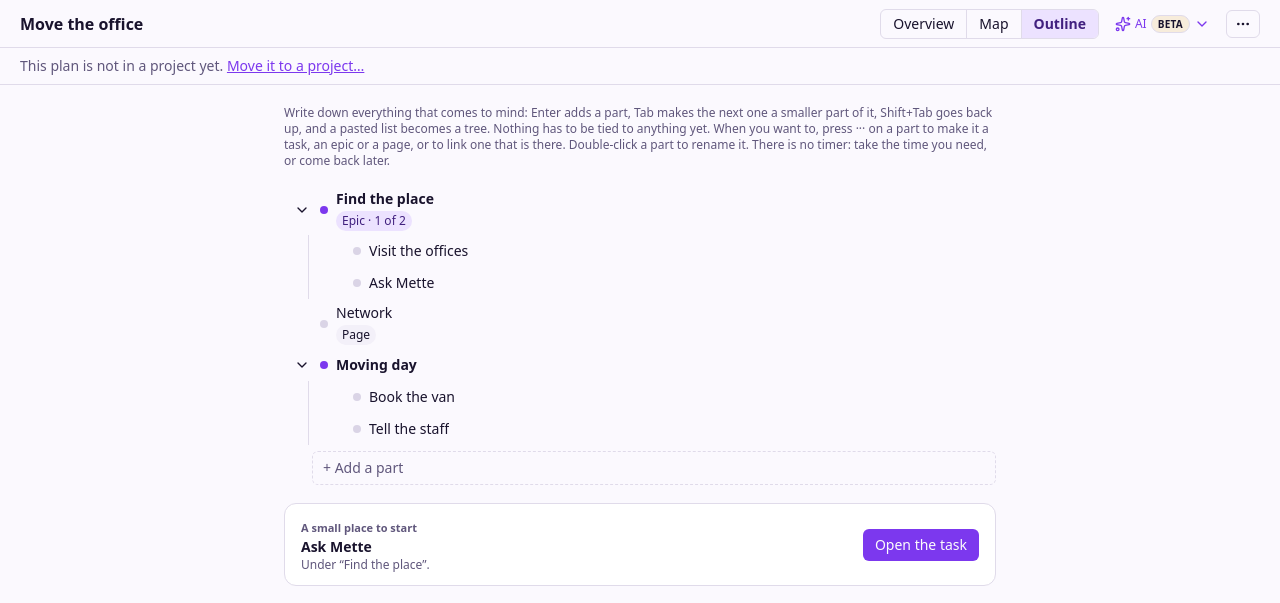
Test case: PlansView › folds a branch
The width and height of the screenshot is (1280, 603).
Expected: the button "Book the van" is shown, [369,387,455,407]
Step 1. Click the button named "Fold Moving day" → click(302, 365), box [292,355,312,375]
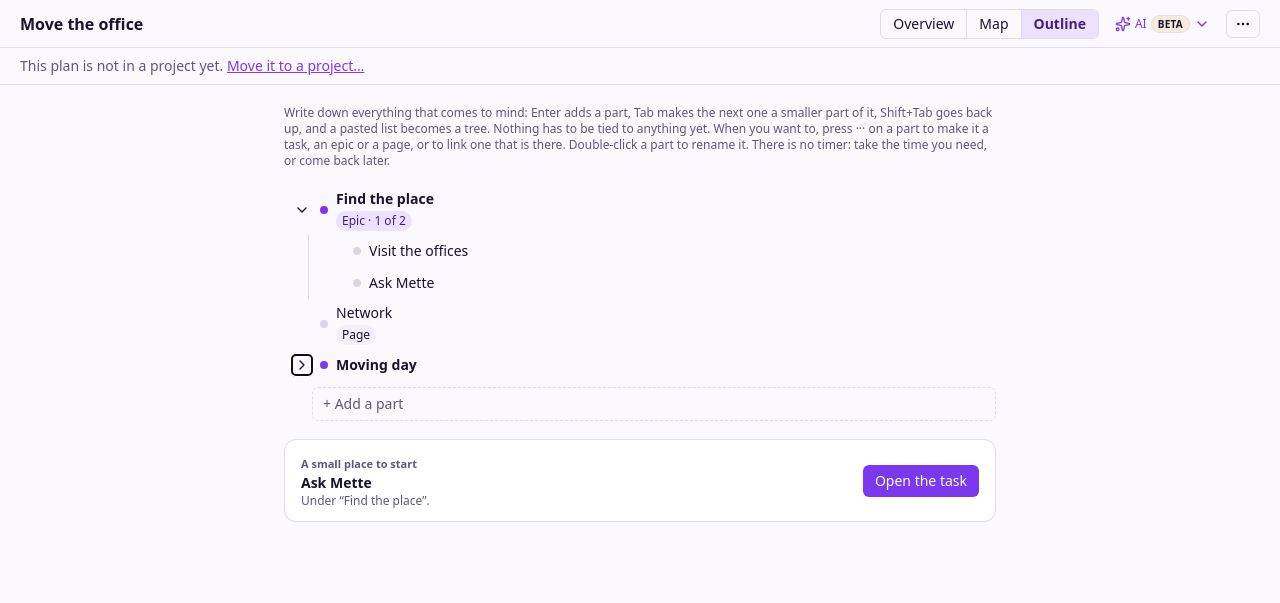
Expected: the button "Book the van" is gone
